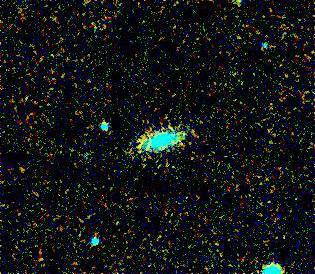star: (175, 115, 205, 145)
